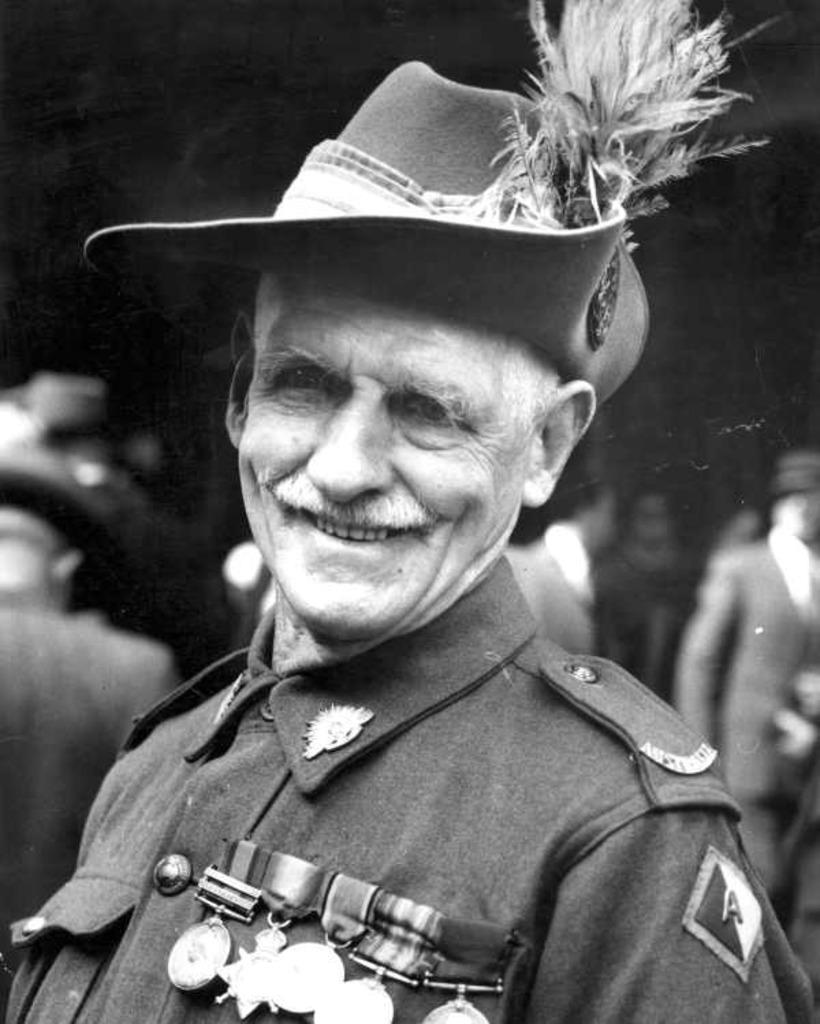Hat: (82, 60, 648, 410), (0, 441, 117, 568), (760, 446, 818, 498)
